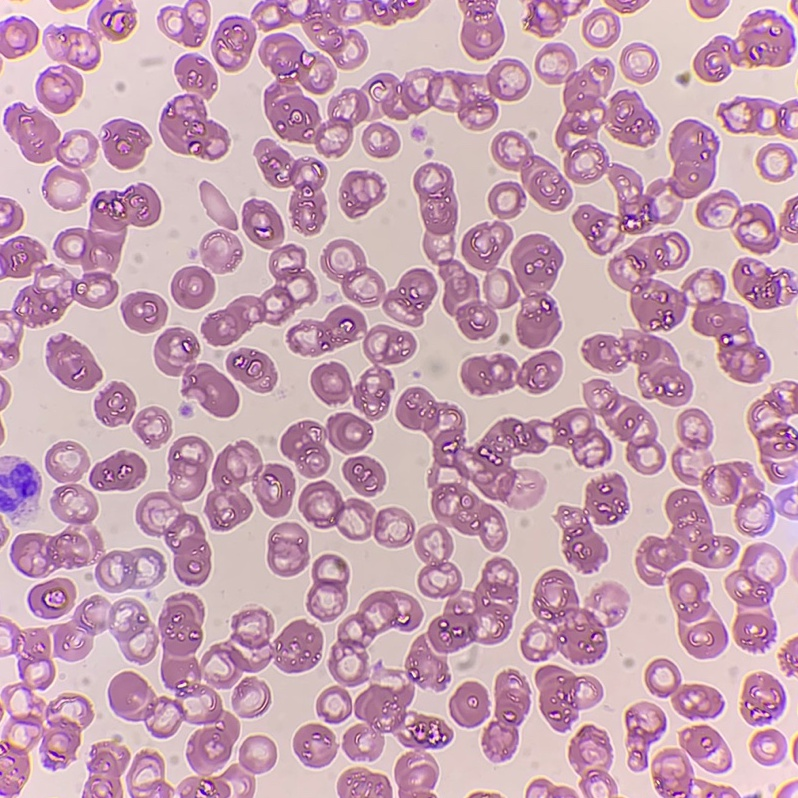RBC: (108, 593, 322, 774), (396, 388, 552, 550), (609, 232, 769, 382), (556, 60, 665, 253), (414, 163, 517, 338), (328, 59, 530, 129), (343, 638, 451, 757), (259, 33, 360, 154), (0, 236, 117, 337), (202, 245, 316, 344), (553, 379, 664, 473), (321, 240, 436, 325), (521, 570, 625, 663), (0, 693, 92, 795), (54, 184, 160, 269), (329, 591, 421, 685), (428, 558, 517, 652), (636, 489, 737, 570), (584, 330, 691, 405), (301, 0, 419, 68), (206, 442, 294, 530), (155, 328, 238, 416), (136, 492, 210, 585), (255, 139, 326, 234), (558, 475, 627, 572), (694, 14, 793, 81), (725, 543, 784, 650), (492, 132, 571, 210), (697, 191, 797, 252), (4, 103, 97, 168), (281, 413, 372, 477), (511, 234, 562, 347), (670, 568, 726, 658), (702, 462, 769, 534), (645, 659, 722, 717), (159, 94, 228, 158), (536, 665, 602, 730), (299, 481, 372, 539), (462, 351, 561, 393), (483, 670, 529, 760), (668, 120, 718, 198), (288, 306, 365, 354), (11, 531, 88, 576), (415, 524, 461, 596), (54, 596, 105, 660), (719, 97, 797, 138), (733, 258, 796, 308), (108, 599, 157, 662), (95, 548, 165, 592), (46, 335, 101, 390), (169, 436, 211, 500), (569, 725, 611, 789), (308, 555, 348, 621), (626, 703, 665, 770), (13, 628, 54, 689), (83, 742, 128, 797), (461, 0, 503, 58), (43, 27, 99, 69), (158, 0, 209, 46), (679, 726, 730, 772), (212, 17, 255, 71), (102, 119, 149, 168), (90, 451, 145, 490), (36, 66, 82, 112), (227, 348, 276, 391), (268, 523, 308, 575), (353, 368, 393, 418), (242, 200, 283, 248), (742, 674, 782, 723), (364, 325, 415, 363), (395, 752, 438, 797), (340, 171, 382, 217), (652, 749, 692, 797), (127, 752, 169, 797), (43, 168, 88, 209), (51, 484, 97, 524), (171, 266, 214, 308), (122, 292, 167, 332), (29, 578, 74, 618), (89, 0, 135, 39), (294, 724, 336, 766), (94, 383, 135, 425), (175, 56, 217, 96), (201, 230, 241, 272), (343, 456, 385, 496), (45, 442, 88, 481), (450, 682, 487, 726), (200, 183, 236, 228), (535, 44, 575, 83), (311, 363, 350, 403), (374, 508, 414, 547), (338, 768, 391, 797), (134, 407, 170, 448), (0, 20, 38, 57), (621, 43, 657, 82), (528, 0, 566, 36), (757, 423, 797, 457), (583, 9, 619, 46), (239, 736, 276, 772), (678, 409, 711, 449), (757, 143, 792, 180), (489, 182, 524, 218), (362, 123, 399, 157), (317, 687, 351, 722), (252, 0, 293, 29), (764, 381, 797, 417), (751, 730, 783, 764), (180, 777, 229, 797), (0, 198, 22, 237), (690, 0, 726, 17), (234, 677, 257, 698), (607, 0, 644, 12), (783, 639, 797, 668), (23, 475, 41, 496), (765, 462, 782, 482), (547, 786, 575, 797), (0, 343, 18, 359), (88, 530, 102, 550), (702, 783, 722, 797), (642, 571, 661, 585), (241, 777, 254, 797), (52, 0, 83, 8), (0, 388, 10, 408), (226, 767, 240, 778), (748, 409, 757, 423), (683, 474, 695, 484), (678, 74, 689, 83), (180, 405, 190, 414), (2, 689, 11, 698), (11, 457, 19, 465), (537, 779, 545, 787), (0, 618, 6, 626), (793, 747, 797, 756), (580, 0, 588, 4), (474, 793, 482, 797)
